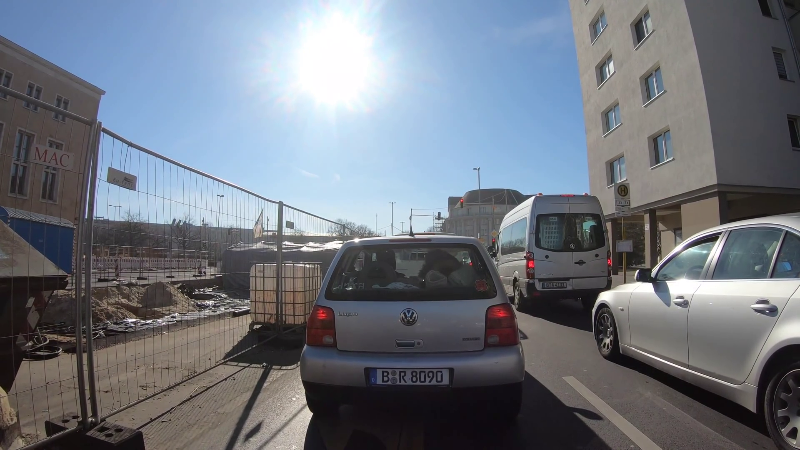Plate: (364, 366, 451, 387), (539, 278, 570, 289)
